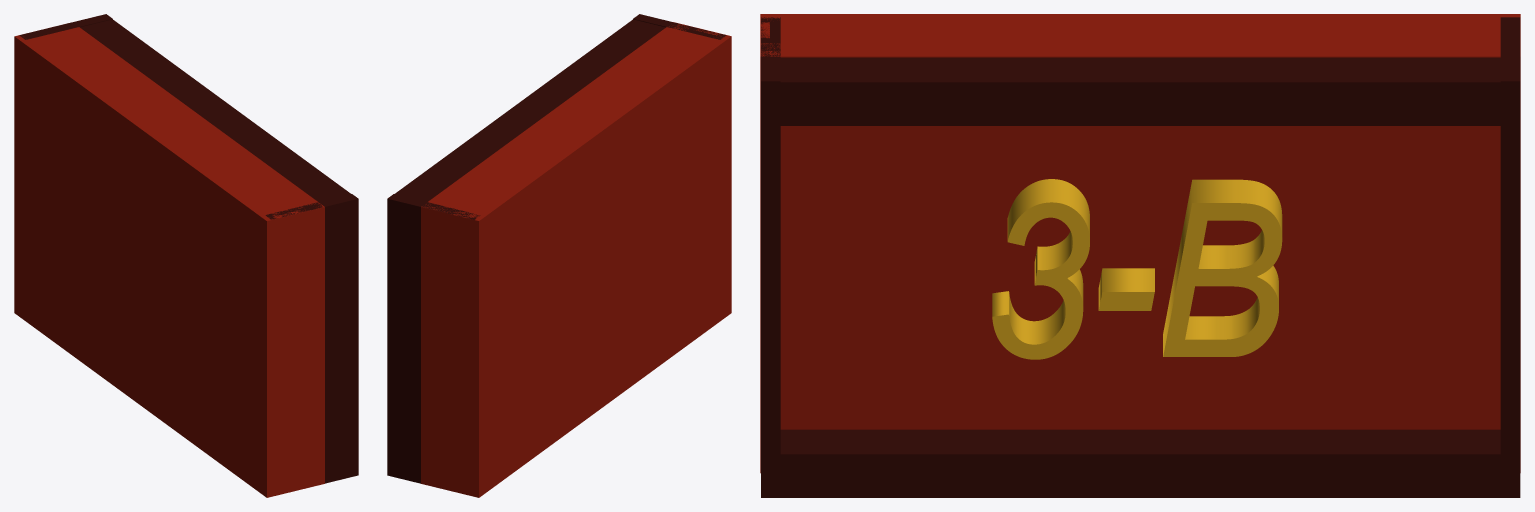
3 renders of one model, left to right at view 1: azimuth 30°, elevation 25°; view 2: azimuth 150°, elevation 25°; view 3: azimuth 270°, elevation 25°, orthographic. The views are drawn at different scales.
Visible parts, largest first — view 1: Text; view 2: Text; view 3: Text.
Boxes of the visible parts, x1,y1,x2,y2 form: Text: [14, 14, 358, 497]; Text: [387, 14, 731, 497]; Text: [760, 14, 1520, 497].
Bounding box in the file's own units: 69.49 × 200 × 331.
